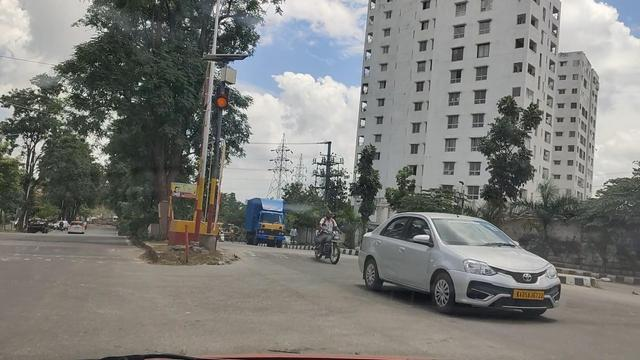LMV: (358, 201, 561, 323)
